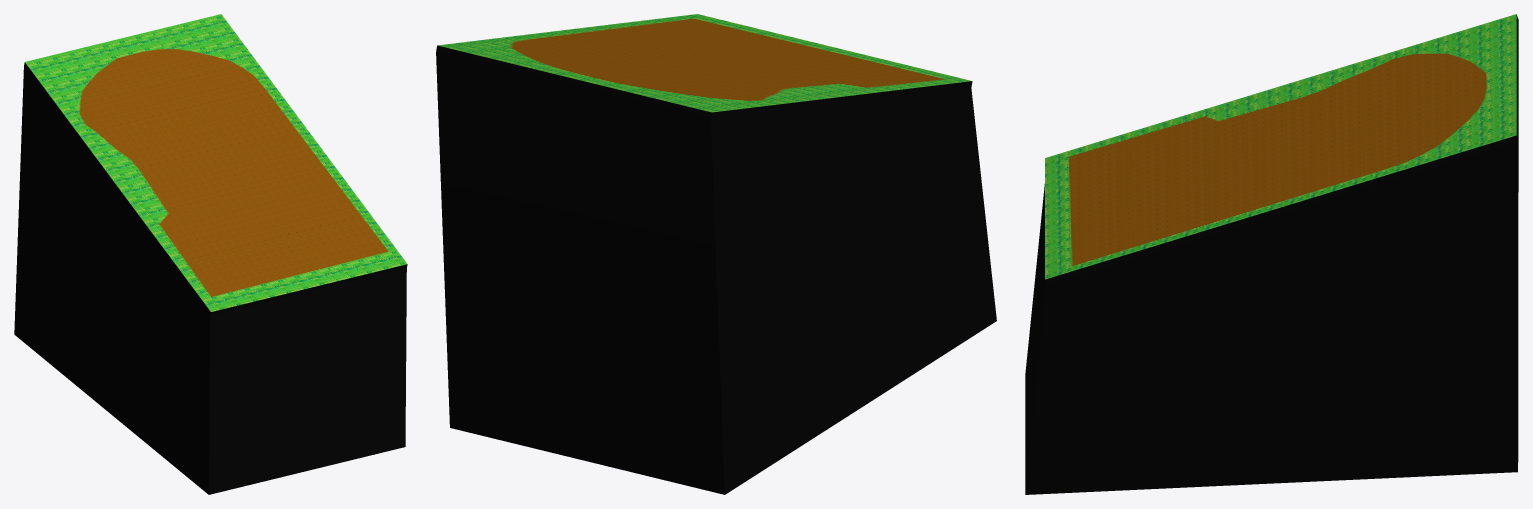
The model's file is Table.fbx.
3 views of the same model, side by side, from view 1: azimuth 30°, elevation 25°; view 2: azimuth 150°, elevation 25°; view 3: azimuth 270°, elevation 25° (orthographic). The views are drawn at different scales.
Parts seen in each view (by area): view 1: pCube1; view 2: pCube1; view 3: pCube1.
Part boxes in pixels (x1,y1,x2,y2): pCube1: (14,14,407,494); pCube1: (436,14,996,494); pCube1: (1025,14,1518,494).
Size of the model in its own units: 4.21 by 5.62 by 6.88.
